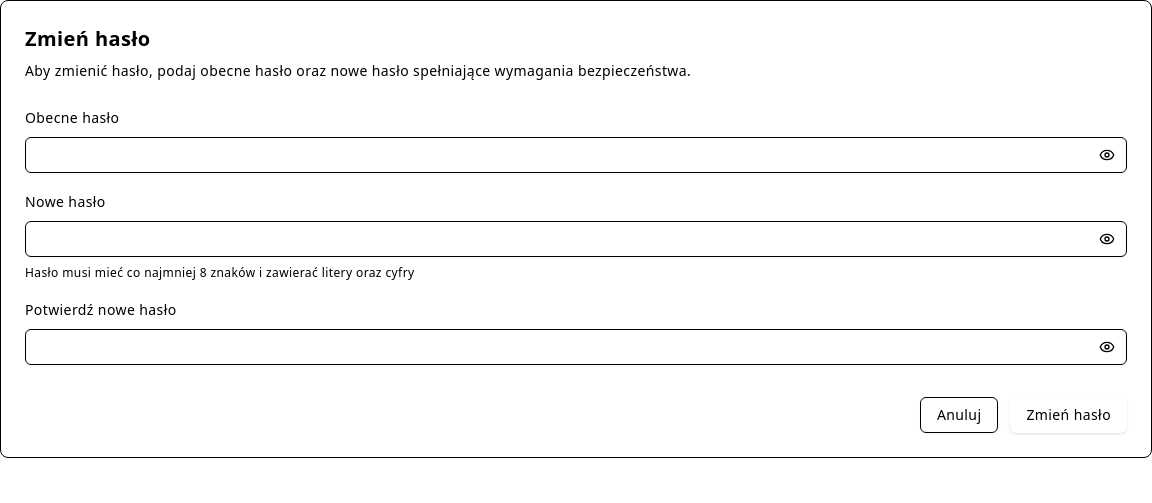
Test: ChangePasswordCard › validates new password minimum length
Type "OldPassword123" into the password field labelled "Obecne hasło" at (576, 155), box x1=25 y1=137 x2=1127 y2=173
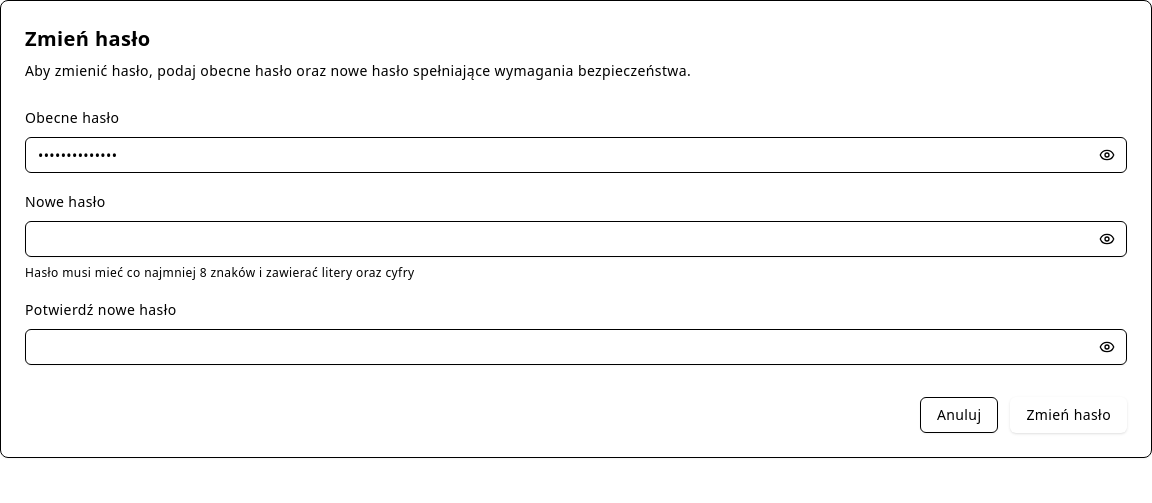
Type "Short1" into the password field labelled "Nowe hasło" at (576, 239), box x1=25 y1=221 x2=1127 y2=257
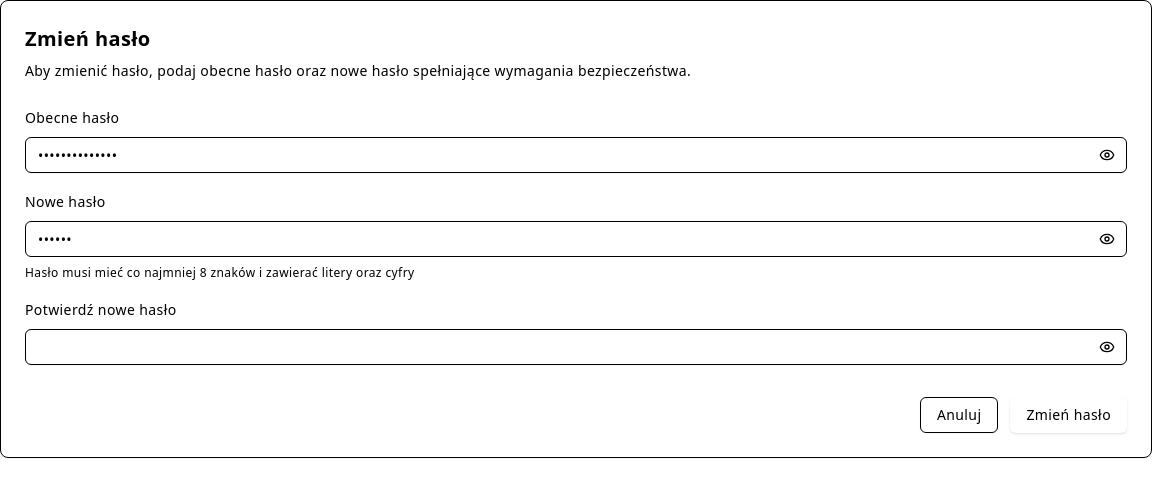
Type "Short1" into the password field labelled "Potwierdź nowe hasło" at (576, 347), box x1=25 y1=329 x2=1127 y2=365
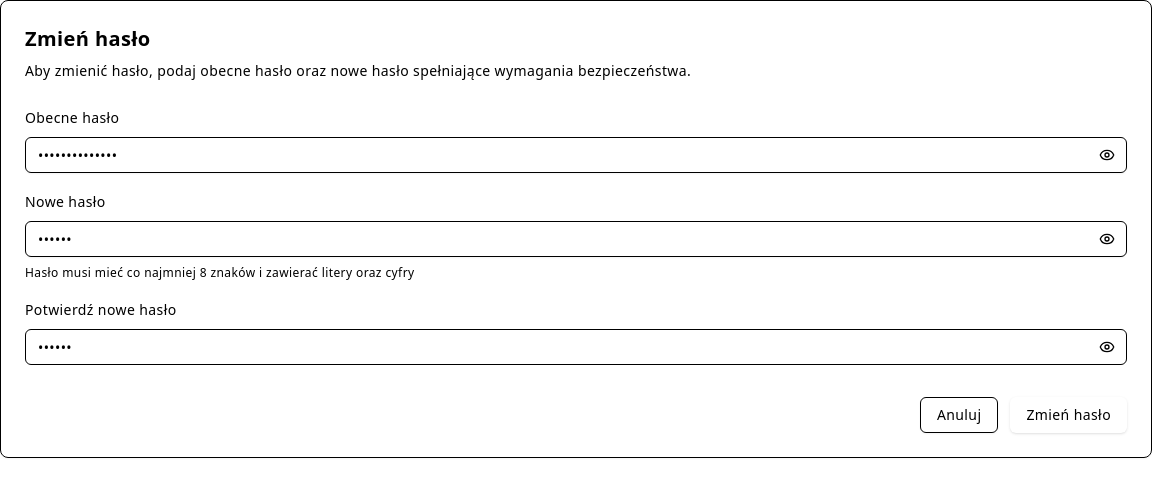
Click the button "Zmień hasło" at (1069, 415), box x1=1010 y1=397 x2=1127 y2=433
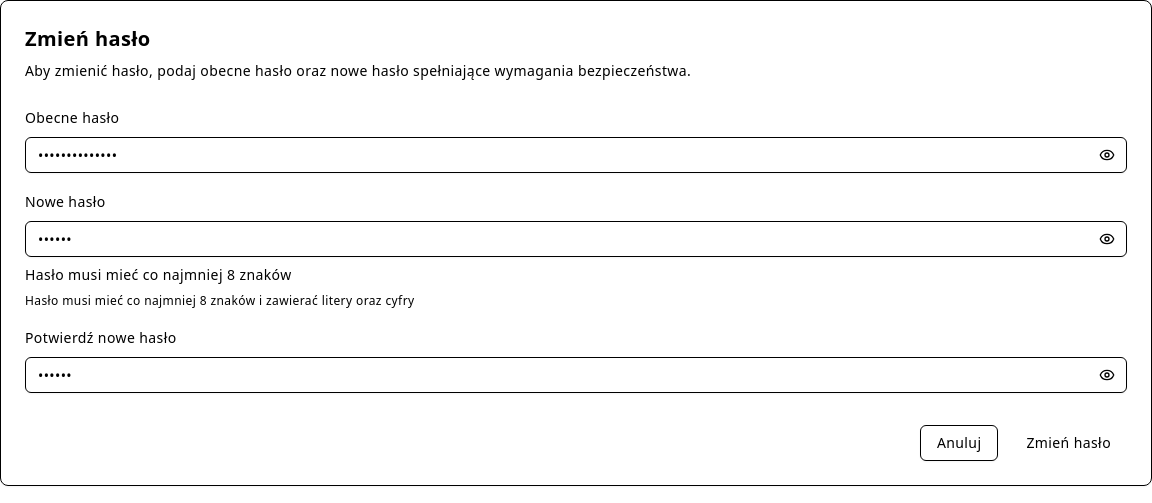
Expected: the text "Hasło musi mieć co najmniej 8 znaków" is shown, x1=25 y1=265 x2=292 y2=284
